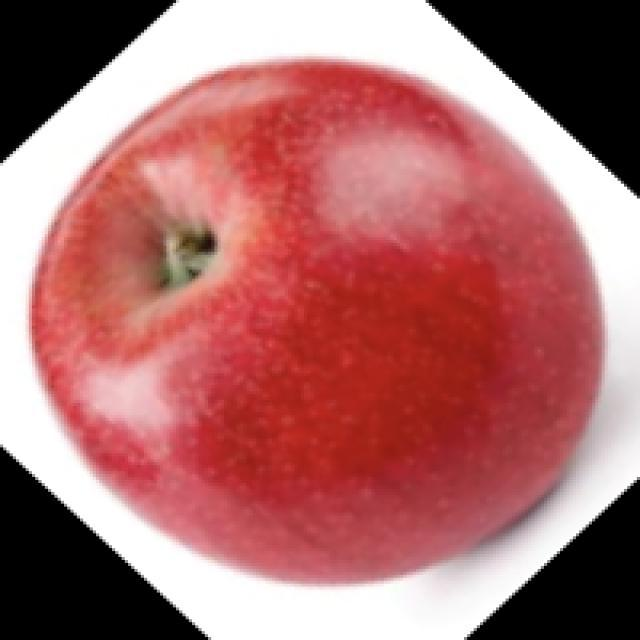Apple: (27, 56, 606, 586)
